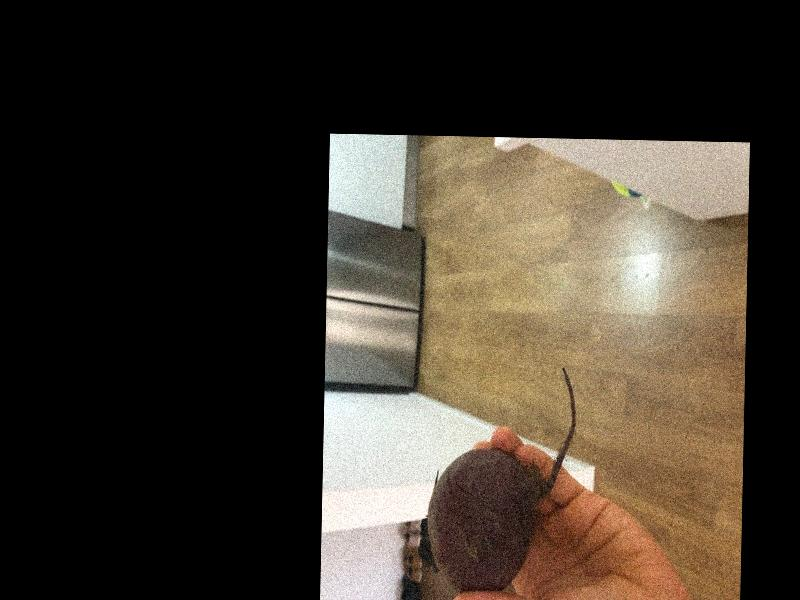Beet: (419, 364, 576, 594)
